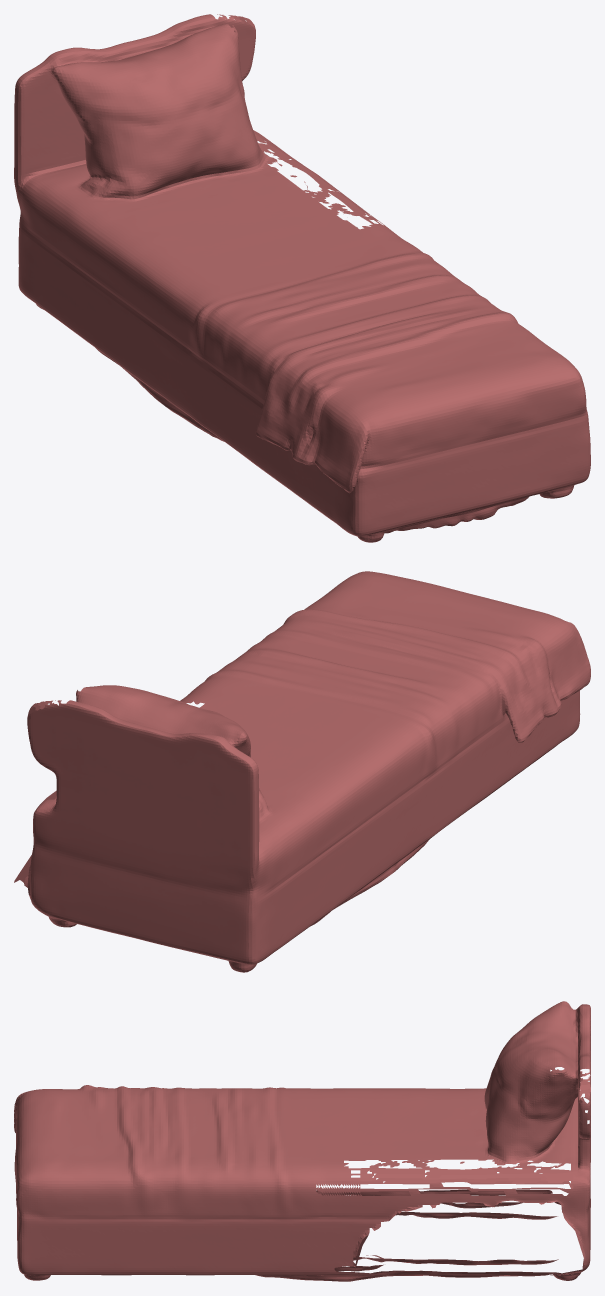
3 renders of one model, top to bottom at view 1: azimuth 30°, elevation 25°; view 2: azimuth 150°, elevation 25°; view 3: azimuth 270°, elevation 25°, orthographic. The views are drawn at different scales.
Parts seen in each view (by area): view 1: world; view 2: world; view 3: world.
Boxes of the visible parts, left/top/right/bottom form: world: left=14, top=14, right=590, bottom=542; world: left=14, top=571, right=590, bottom=972; world: left=14, top=1001, right=590, bottom=1281.
Size of the model in its own units: 0.9986 by 0.7797 by 1.96.
